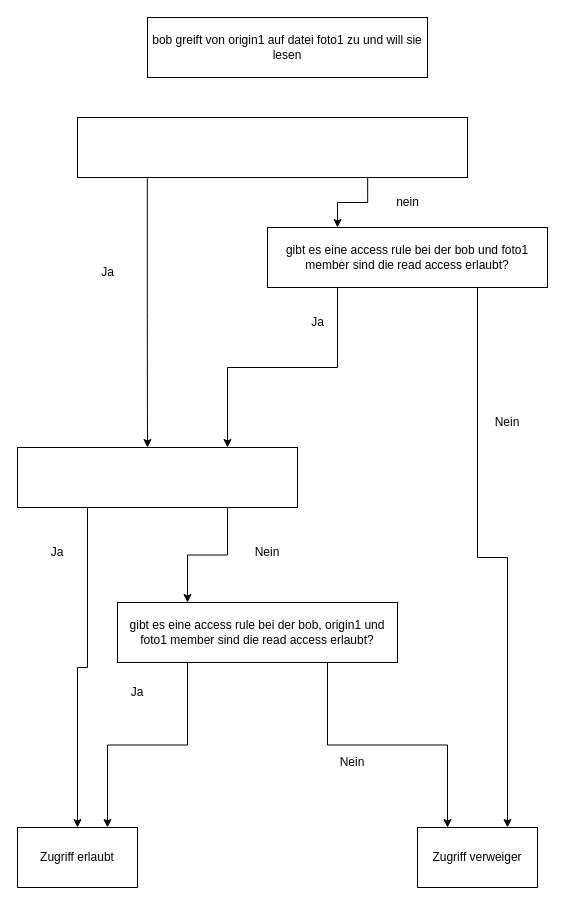
The diagram is 565 pixels wide and 905 high, and some of its shapes have lost their labels. The box of each missing label's shape, as (x1, y1, x2, y2) in pixels:
ist origin1 trusted?: (16, 446, 298, 508)
query1: ist bob der owner von foto1?: (76, 116, 468, 178)
